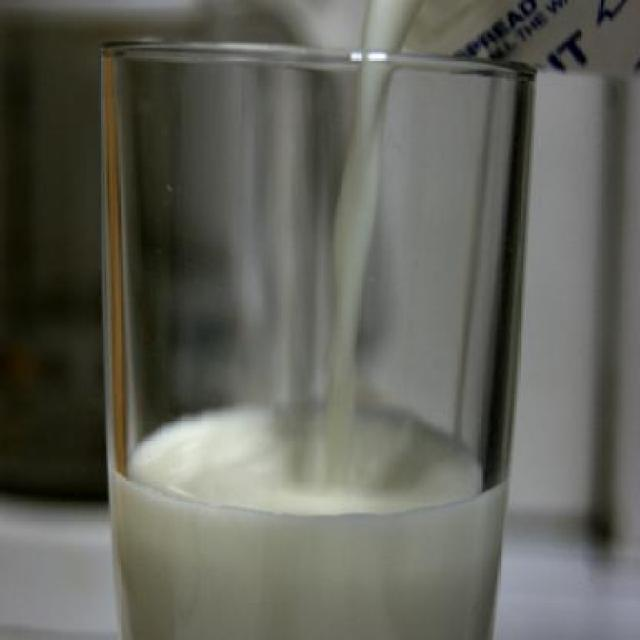Milk: (105, 388, 508, 640), (321, 1, 424, 387)
